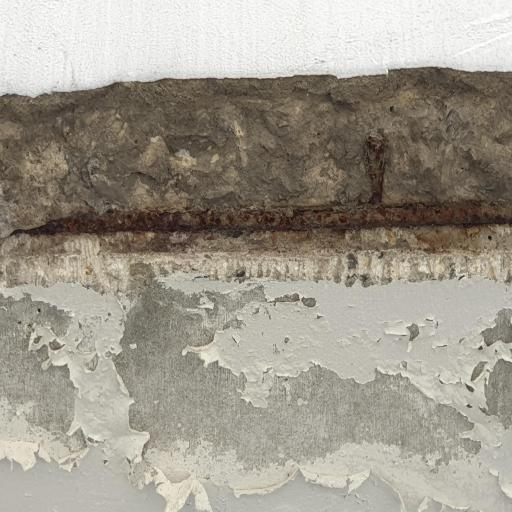exposed_rebar: (18, 146, 484, 236)
